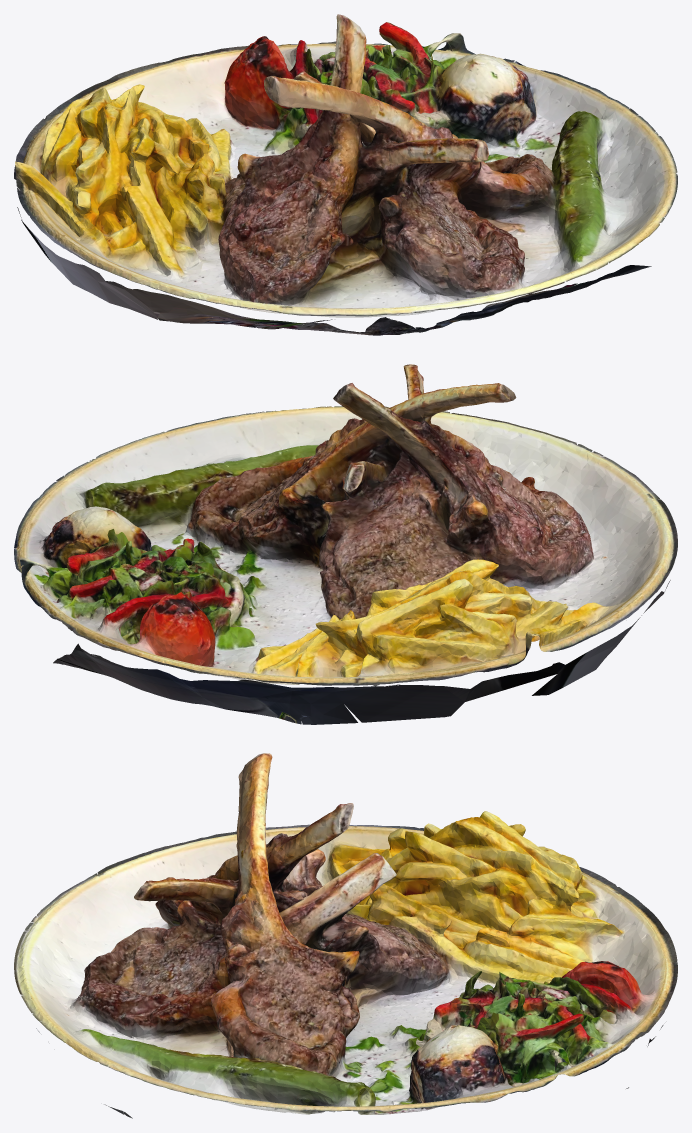
Rendered from cotlet-de-miel.glb.
3 renders of one model, top to bottom at view 1: azimuth 30°, elevation 25°; view 2: azimuth 150°, elevation 25°; view 3: azimuth 270°, elevation 25°, orthographic.
Bounding box in the file's own units: 0.2843 × 0.101 × 0.2843.
1 material, 1 textured.
